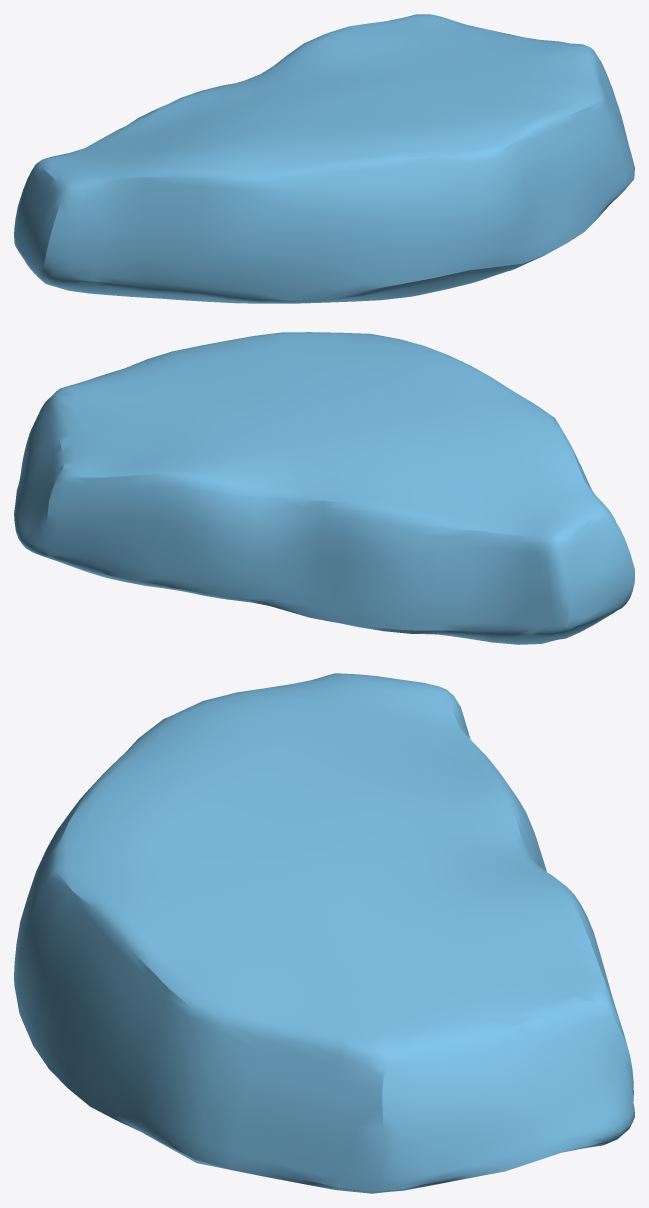
File: Platform4.fbx
3 renders of one model, top to bottom at view 1: azimuth 30°, elevation 25°; view 2: azimuth 150°, elevation 25°; view 3: azimuth 270°, elevation 25°, orthographic. The views are drawn at different scales.
Visible parts, largest first — view 1: Retopo_Cube.007; view 2: Retopo_Cube.007; view 3: Retopo_Cube.007.
Boxes of the visible parts, x1,y1,x2,y2 form: Retopo_Cube.007: (14,14,634,303); Retopo_Cube.007: (14,332,634,644); Retopo_Cube.007: (14,673,634,1193).
Size of the model in its own units: 555 by 148 by 350.
